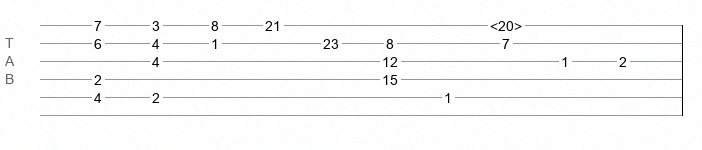1: (211, 36, 219, 46), (444, 90, 452, 100), (561, 54, 569, 64)
12: (382, 54, 398, 64)
15: (382, 72, 398, 82)
2: (94, 72, 102, 82), (152, 90, 160, 100), (619, 54, 627, 64)
21: (265, 18, 281, 28)
23: (323, 36, 339, 46)
3: (152, 18, 160, 28)
4: (94, 90, 102, 100), (152, 54, 160, 64), (152, 36, 160, 46)
6: (94, 36, 102, 46)
7: (94, 18, 102, 28), (502, 36, 510, 46)
8: (211, 18, 219, 28), (386, 36, 394, 46)
harmonic: (490, 18, 522, 28)
